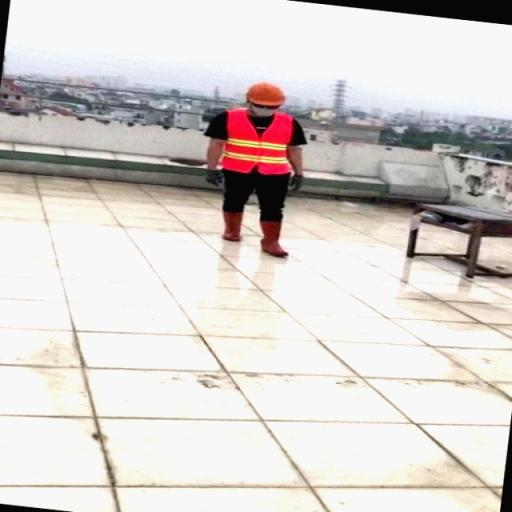Person: (198, 74, 328, 268)
boots: (212, 202, 258, 261), (255, 211, 300, 262)
gloves: (194, 158, 228, 196), (281, 165, 314, 201)
goggles: (238, 96, 292, 118)
helmet: (234, 80, 292, 106)
vest: (215, 108, 308, 181)
